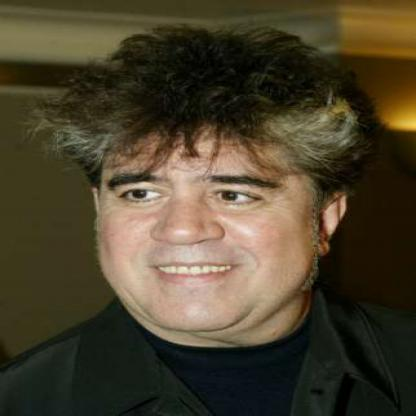face: (88, 75, 326, 337)
